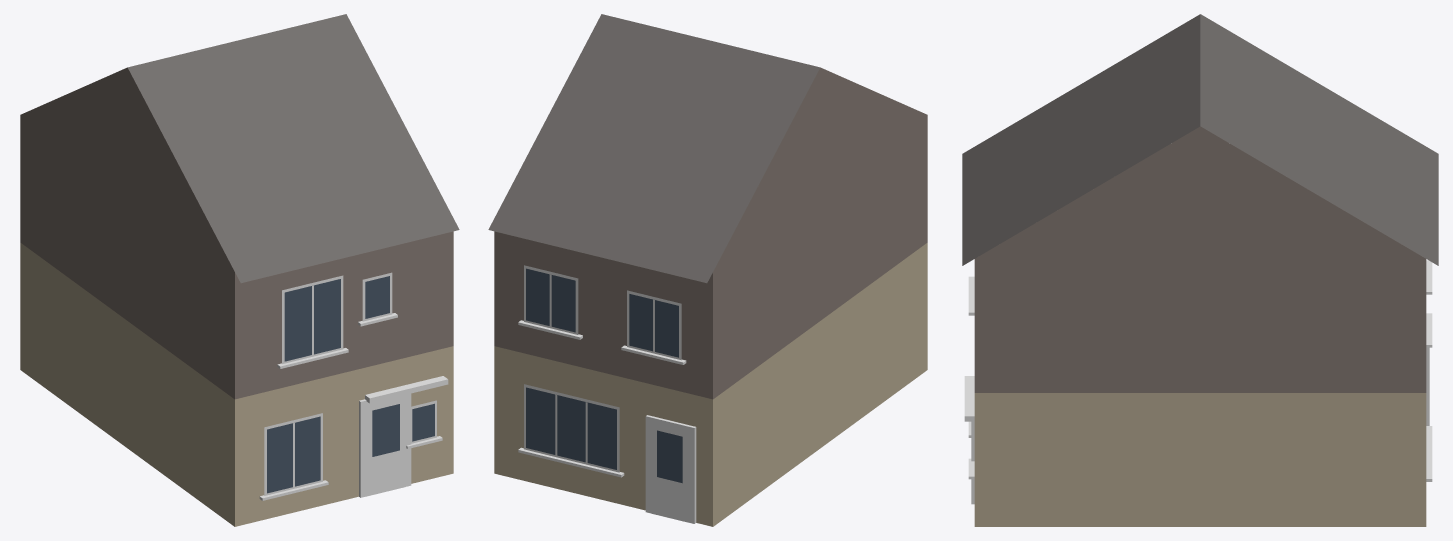
The model's file is zo-rb-two-tone__simonshaven__2__gable__long__solid__mirror.glb.
The picture shows the model from 3 angles, left to right: view 1: azimuth 30°, elevation 25°; view 2: azimuth 150°, elevation 25°; view 3: azimuth 270°, elevation 25°; orthographic projection. The views are drawn at different scales.
Parts seen in each view (by area): view 1: zo-rb-two-tone__simonshaven__2__gable__long__solid__mirror; view 2: zo-rb-two-tone__simonshaven__2__gable__long__solid__mirror; view 3: zo-rb-two-tone__simonshaven__2__gable__long__solid__mirror.
Boxes of the visible parts, left/top/right/bottom form: zo-rb-two-tone__simonshaven__2__gable__long__solid__mirror: left=20, top=14, right=459, bottom=526; zo-rb-two-tone__simonshaven__2__gable__long__solid__mirror: left=488, top=14, right=927, bottom=526; zo-rb-two-tone__simonshaven__2__gable__long__solid__mirror: left=962, top=14, right=1438, bottom=526.
Size of the model in its own units: 5.3 by 8.82 by 9.5.
